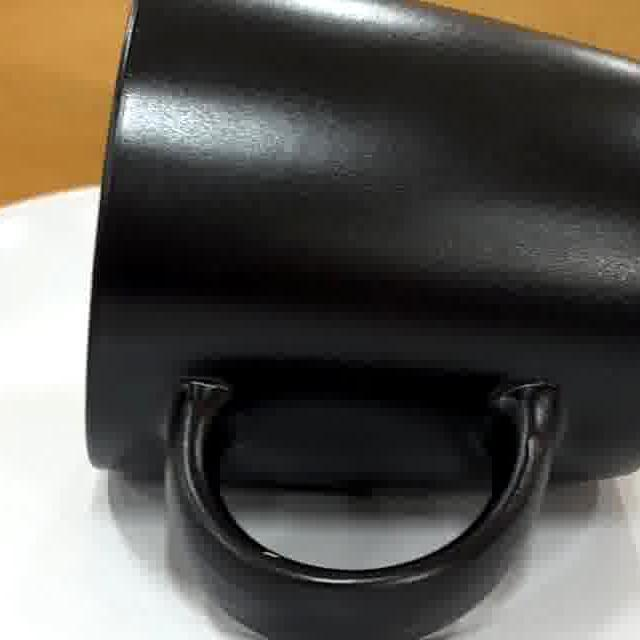cup: (87, 0, 640, 640)
